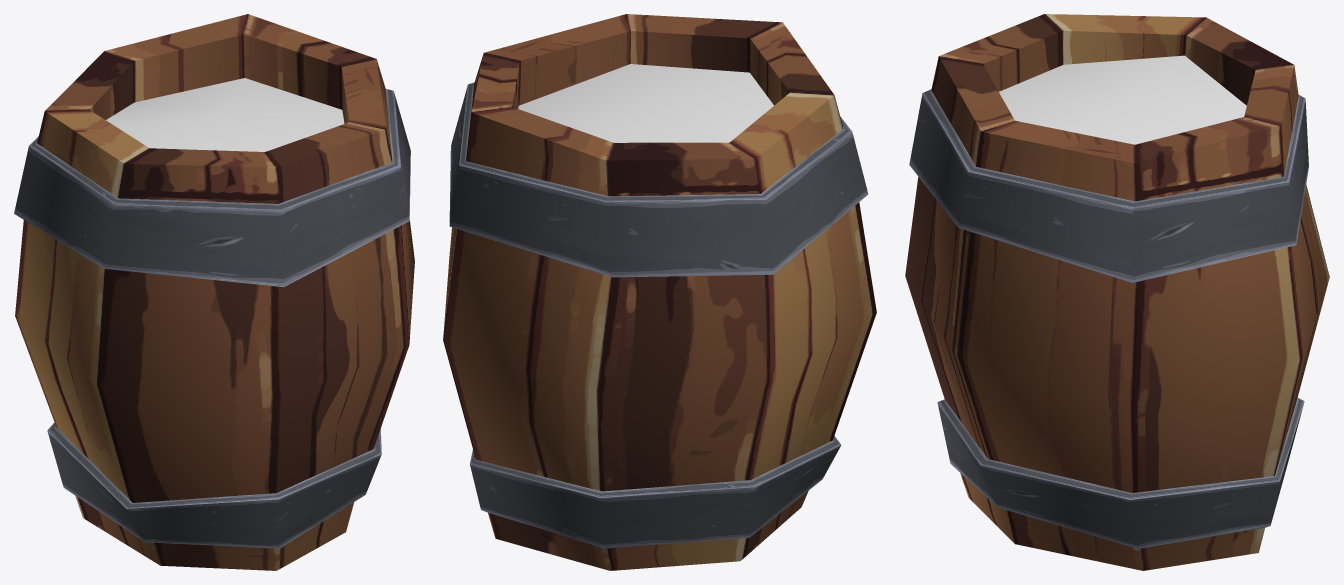
Rendered from SM_PROP_barrel_05.fbx.
The picture shows the model from 3 angles, left to right: view 1: azimuth 30°, elevation 25°; view 2: azimuth 150°, elevation 25°; view 3: azimuth 270°, elevation 25°; orthographic projection. The views are drawn at different scales.
Parts seen in each view (by area): view 1: SM_PROP_barrel_05; view 2: SM_PROP_barrel_05; view 3: SM_PROP_barrel_05.
Boxes of the visible parts, x1,y1,x2,y2 form: SM_PROP_barrel_05: (14,14,414,570); SM_PROP_barrel_05: (443,14,876,570); SM_PROP_barrel_05: (905,14,1329,570).
Bounding box in the file's own units: 77.06 × 84.39 × 74.86.
